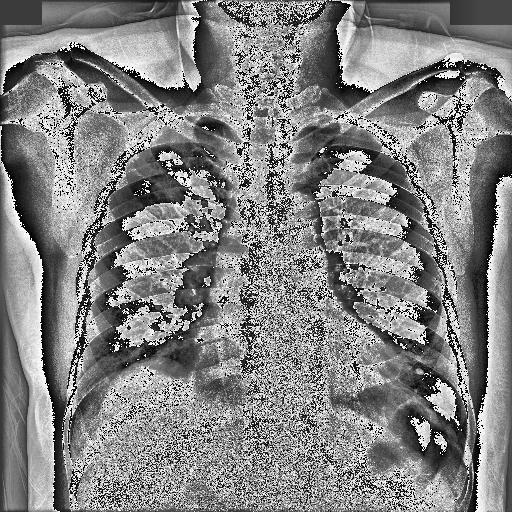0- Aortic enlargement: (270, 192, 326, 260), (270, 196, 319, 228)
13- Pulmonary fibrosis: (126, 160, 192, 204), (127, 150, 159, 186), (152, 179, 182, 200), (127, 168, 152, 180), (413, 366, 425, 376)
2- Calcification: (182, 196, 216, 310), (333, 195, 359, 304)
3- Cardiomegaly: (186, 319, 404, 409), (187, 320, 413, 400), (181, 320, 402, 393)
7- Lung Opacity: (150, 178, 188, 206)
8- Nodule-Mass: (330, 262, 390, 294), (332, 214, 360, 276), (185, 198, 216, 252), (185, 199, 217, 246), (410, 385, 434, 396), (313, 234, 326, 252), (413, 366, 425, 376), (414, 366, 424, 376), (152, 303, 162, 311), (154, 304, 162, 310)
9- Other lesion: (182, 196, 216, 310), (333, 195, 359, 304), (313, 234, 326, 252)
